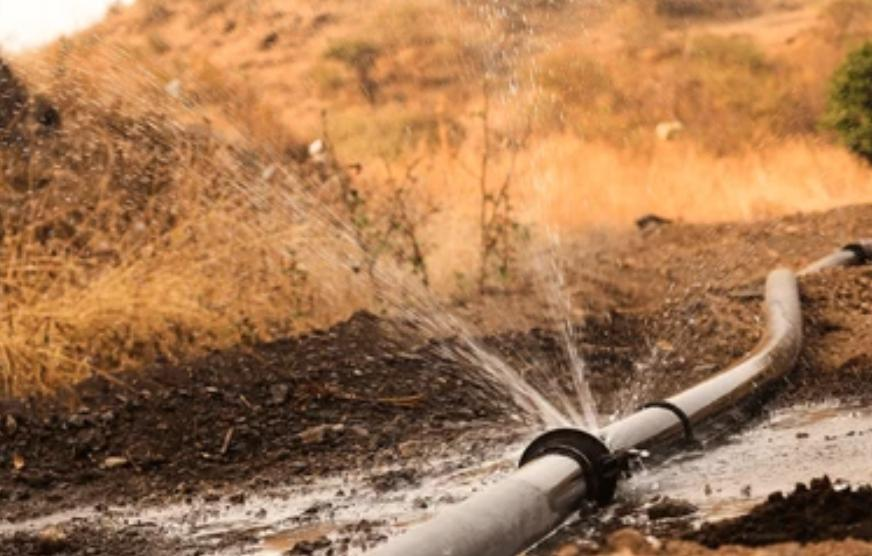pipe burst: (256, 169, 662, 475)
water accumulation: (0, 394, 872, 556)
